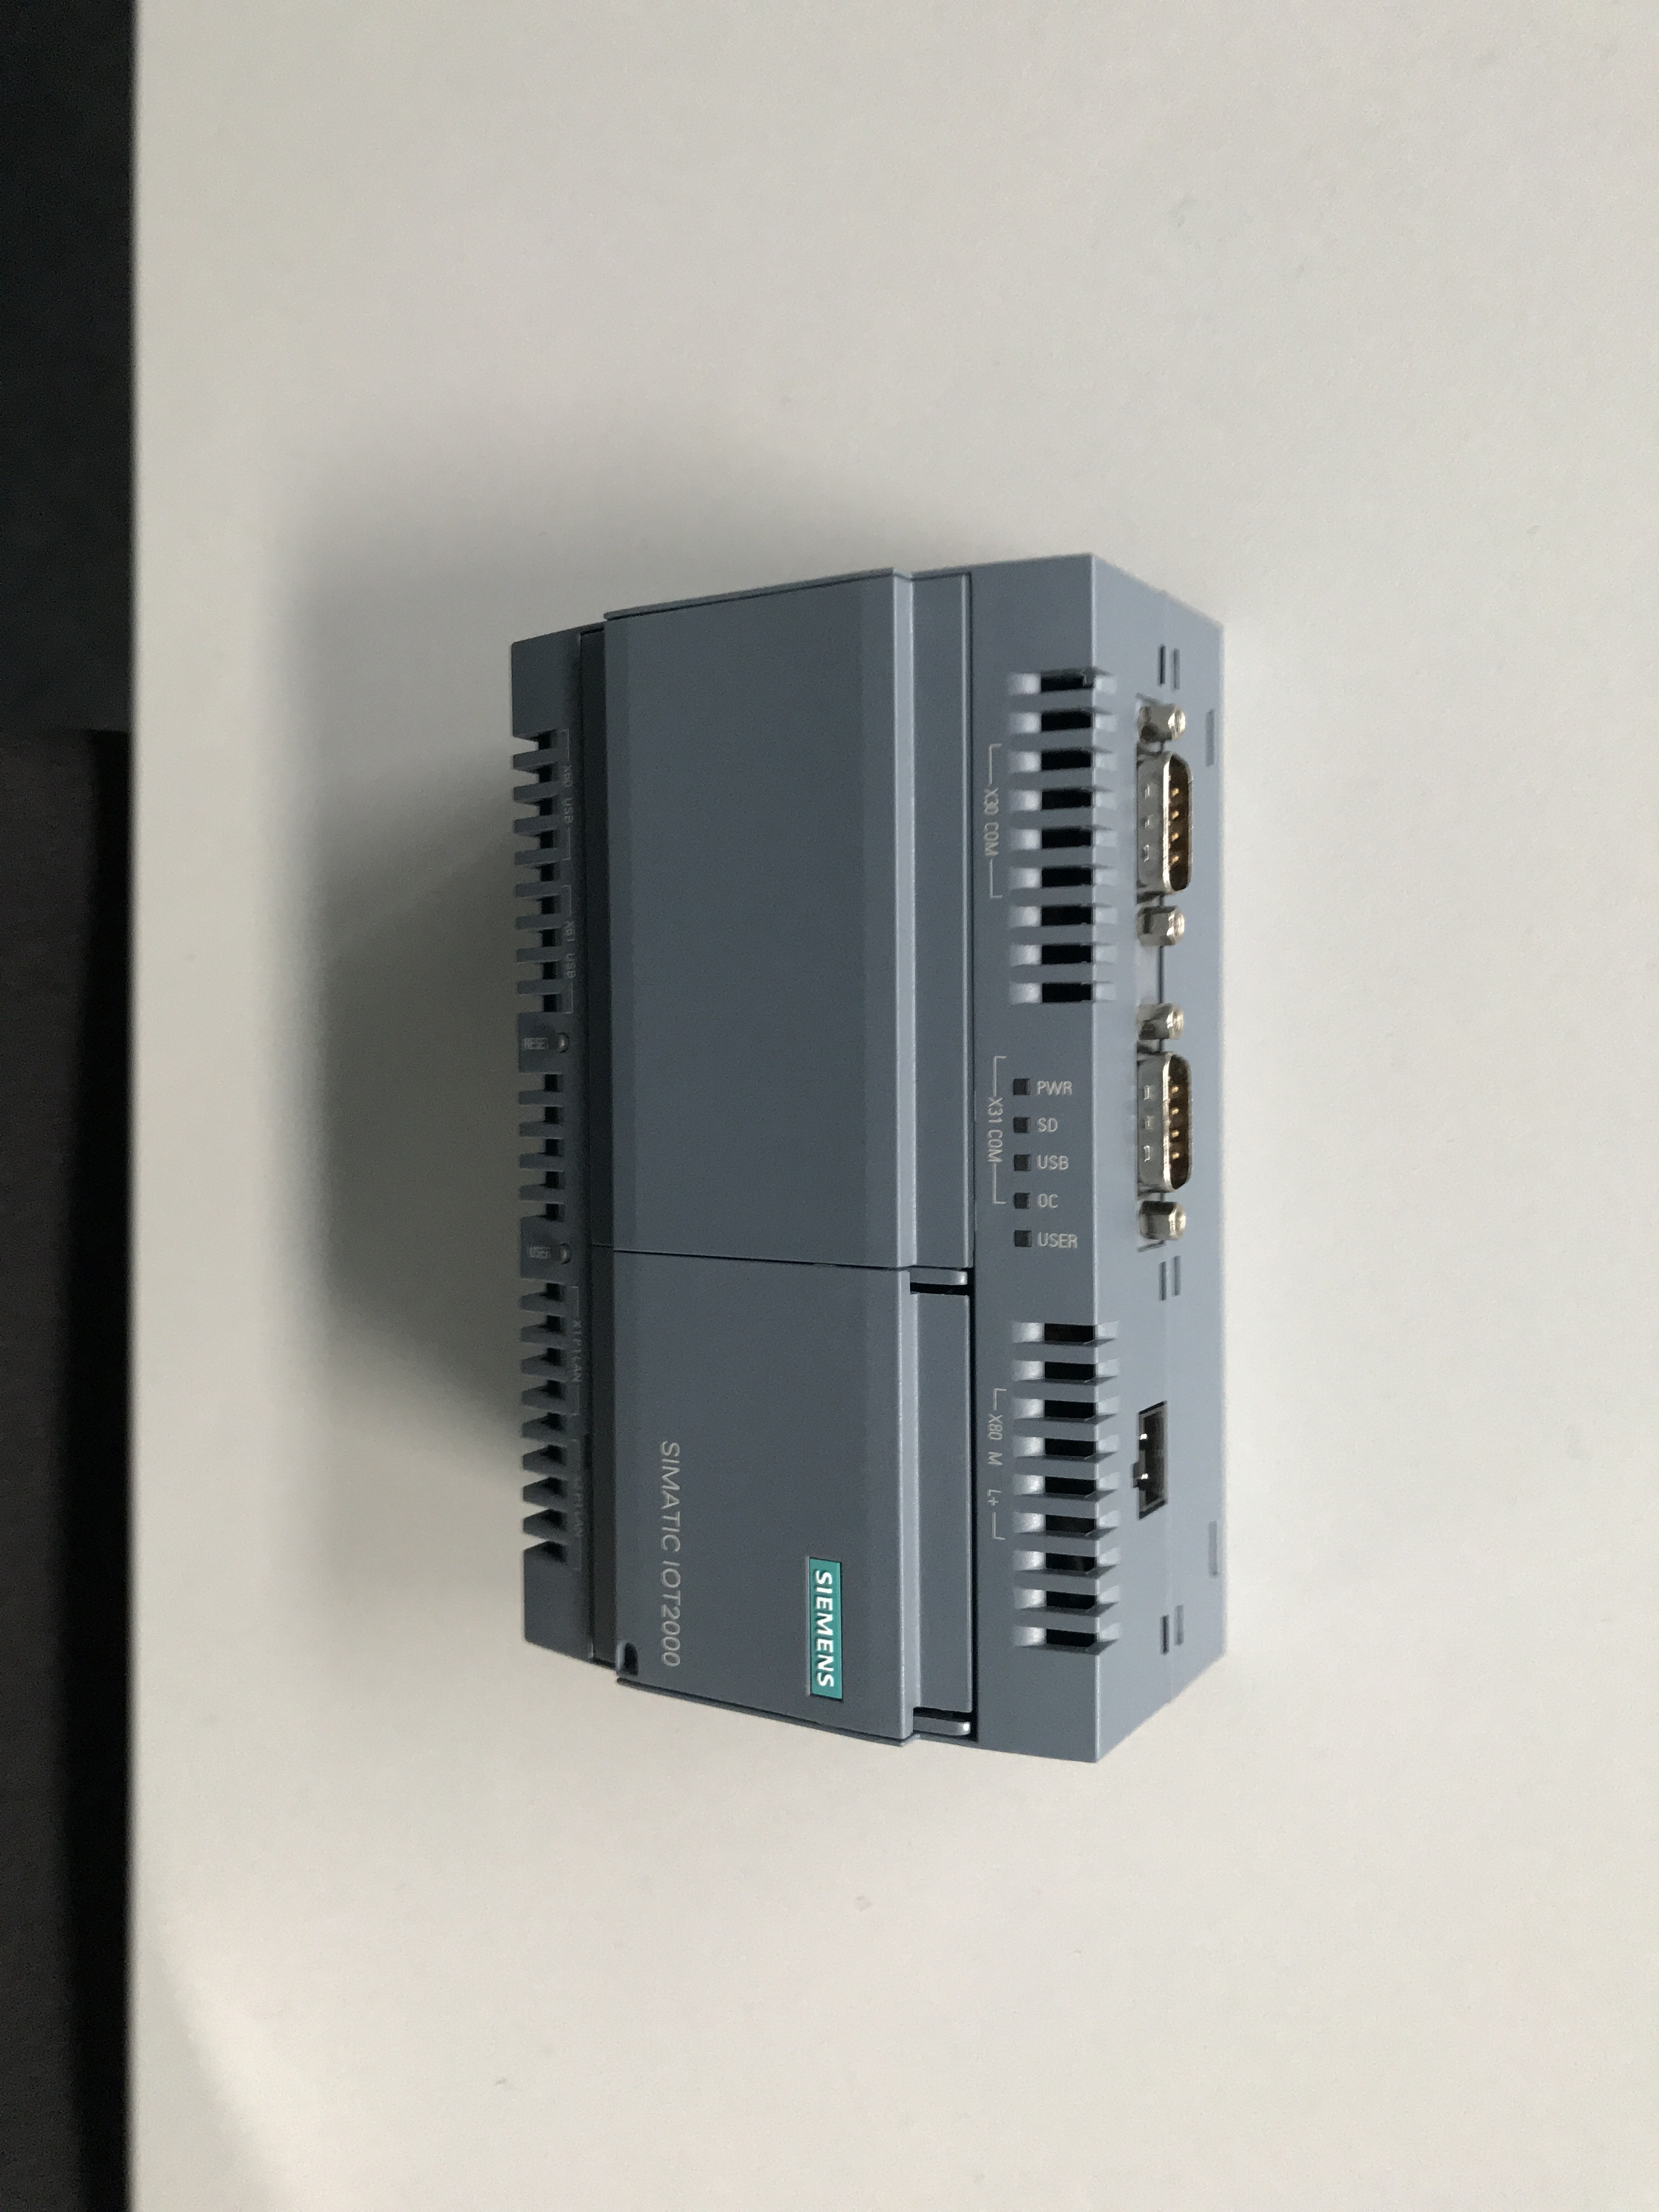device: (509, 552, 1225, 1764)
